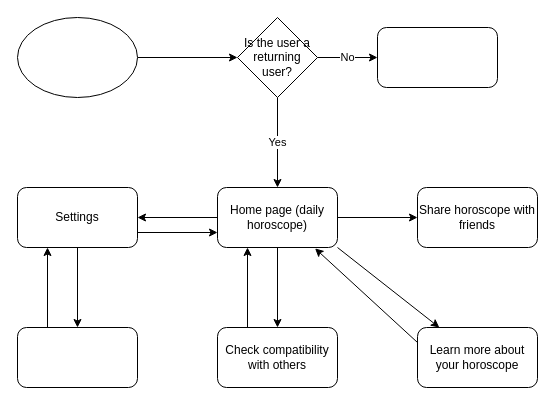
The diagram is 555 pixels wide and 405 high, and some of its shapes have lost their labels. The centre of each missing label's shape, as x and y in pixels:
"Create profile (enter name & birthday)" belongs at (437,57).
"Edit name & birthday" belongs at (77,357).
"Start (open app)" belongs at (77,57).
